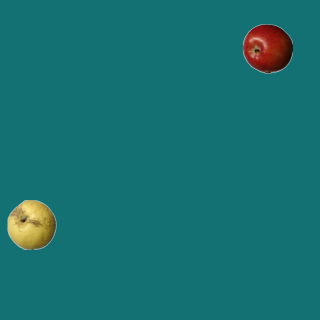Apple Braeburn: (242, 23, 292, 73)
Apple Golden 1: (6, 199, 56, 249)
